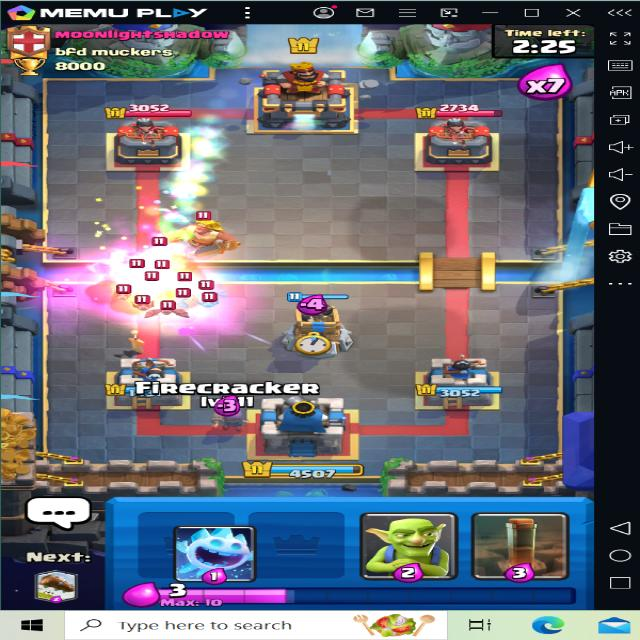Bat: (144, 296, 196, 321)
Goldenknight: (156, 210, 242, 254)
